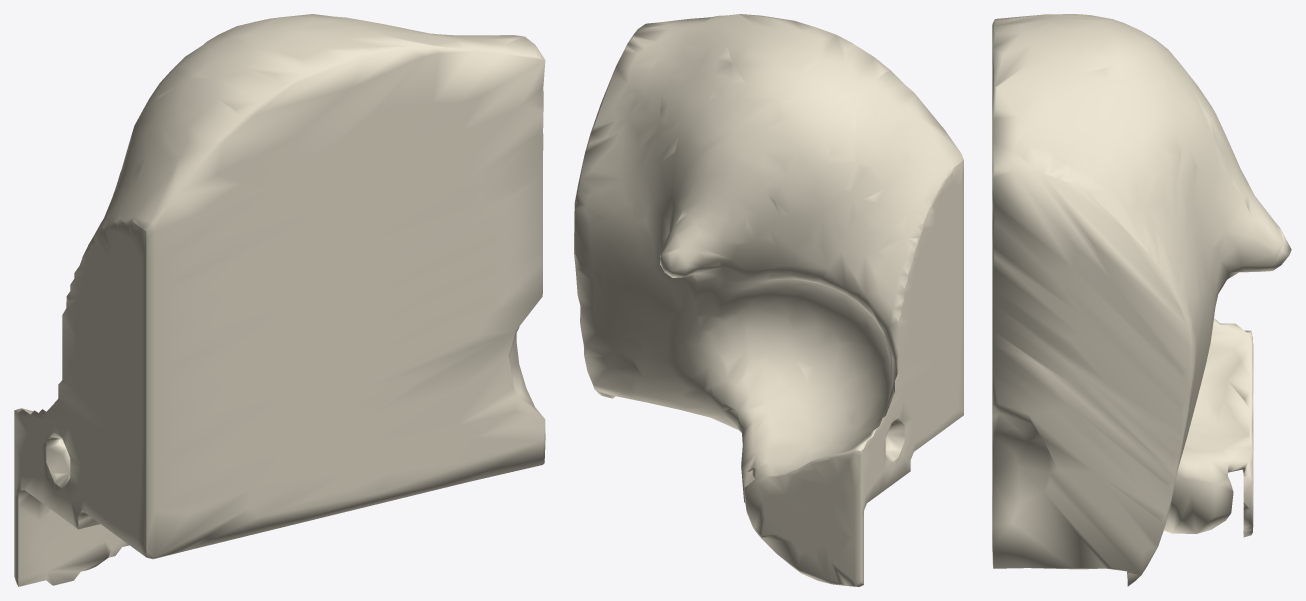
Rendered from frontal_r.glb.
3 renders of one model, left to right at view 1: azimuth 30°, elevation 25°; view 2: azimuth 150°, elevation 25°; view 3: azimuth 270°, elevation 25°, orthographic. The views are drawn at different scales.
Parts seen in each view (by area): view 1: geometry_0; view 2: geometry_0; view 3: geometry_0.
Boxes of the visible parts, box(x1,y1,x2,y2) form: geometry_0: box(14, 14, 545, 586); geometry_0: box(574, 14, 963, 586); geometry_0: box(992, 14, 1291, 586).
Bounding box in the file's own units: 0.23 × 0.3223 × 0.1549.
